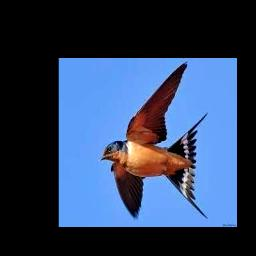Swallow: (98, 61, 208, 219)
